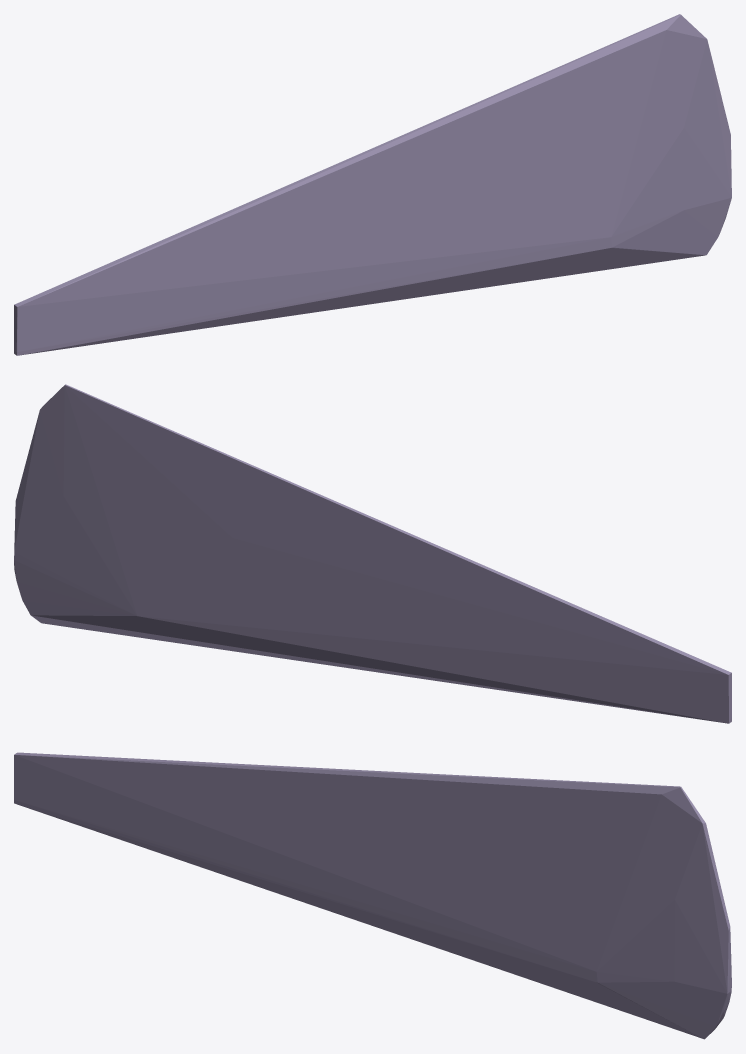
File: instrument_caliper_a01.glb
3 views of the same model, one above another, from view 1: azimuth 30°, elevation 25°; view 2: azimuth 150°, elevation 25°; view 3: azimuth 330°, elevation 25° (orthographic).
Visible parts, largest first — view 1: geometry_0; view 2: geometry_0; view 3: geometry_0.
Part boxes in pixels (left/top/right/bottom): geometry_0: left=14, top=14, right=731, bottom=355; geometry_0: left=14, top=384, right=731, bottom=723; geometry_0: left=14, top=752, right=731, bottom=1039.
Size of the model in its own units: 0.48 by 0.1579 by 0.0152.
